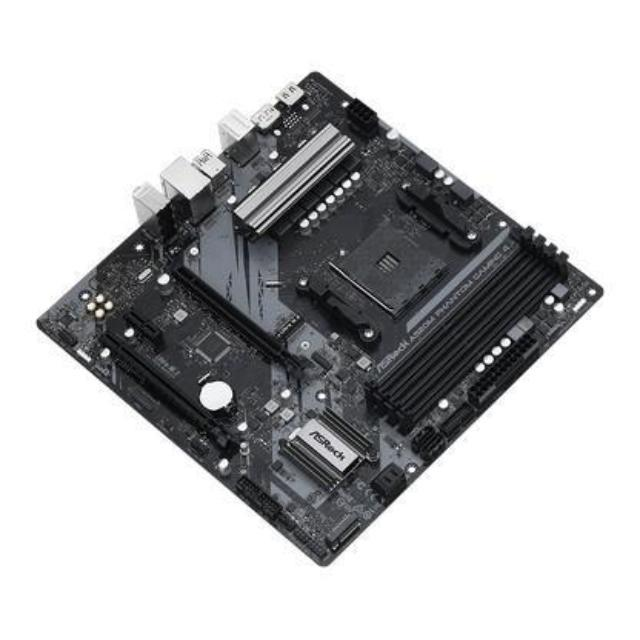Mainboard: (34, 59, 606, 568)
